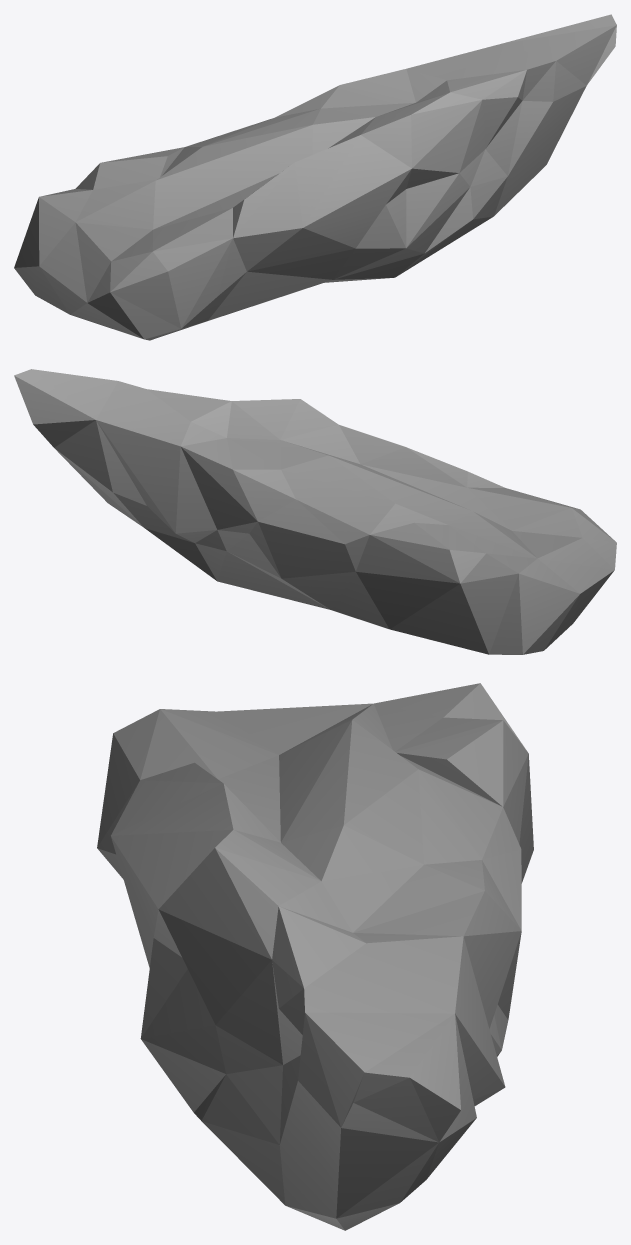
The model's file is stone-large-2.glb.
The picture shows the model from 3 angles, top to bottom: view 1: azimuth 30°, elevation 25°; view 2: azimuth 150°, elevation 25°; view 3: azimuth 270°, elevation 25°; orthographic projection. The views are drawn at different scales.
Visible parts, largest first — view 1: stone_large_2; view 2: stone_large_2; view 3: stone_large_2.
Boxes of the visible parts, left/top/right/bottom form: stone_large_2: left=14, top=14, right=616, bottom=340; stone_large_2: left=14, top=369, right=616, bottom=654; stone_large_2: left=97, top=683, right=533, bottom=1230.
Bounding box in the file's own units: 18.48 × 5.19 × 6.32.
Materials: 1 (1 with a texture image).
